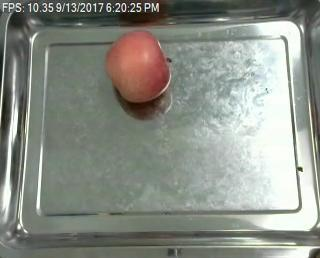apple: (103, 28, 174, 103)
